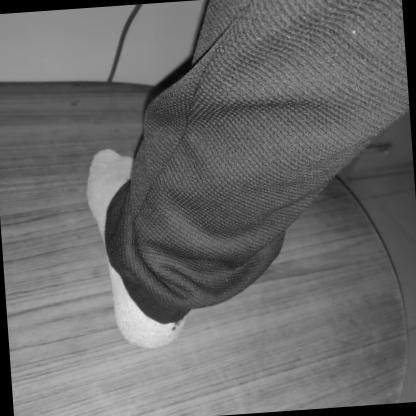ankle: (131, 282, 137, 288)
heel: (151, 341, 158, 347)
left_foot: (83, 146, 186, 354)
pinky: (135, 162, 139, 166)
toe: (106, 154, 112, 159)
